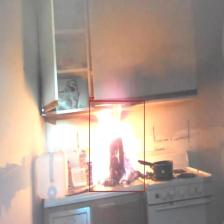fire: (89, 100, 145, 192)
